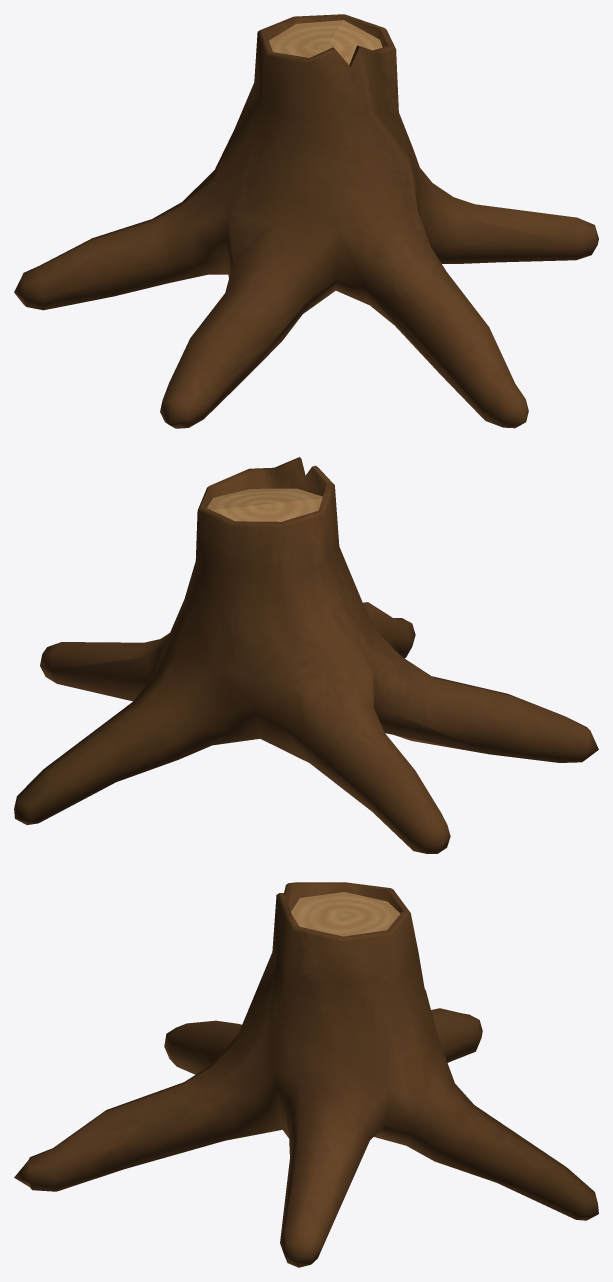
File: Stump_3.fbx
3 renders of one model, top to bottom at view 1: azimuth 30°, elevation 25°; view 2: azimuth 150°, elevation 25°; view 3: azimuth 270°, elevation 25°, orthographic. The views are drawn at different scales.
Visible parts, largest first — view 1: Cube.066; view 2: Cube.066; view 3: Cube.066.
Part boxes in pixels (x1,y1,x2,y2): Cube.066: (14,14,598,428); Cube.066: (14,457,598,853); Cube.066: (14,882,598,1267).
Size of the model in its own units: 169 by 96.9 by 180.
2 materials, 2 textured.
